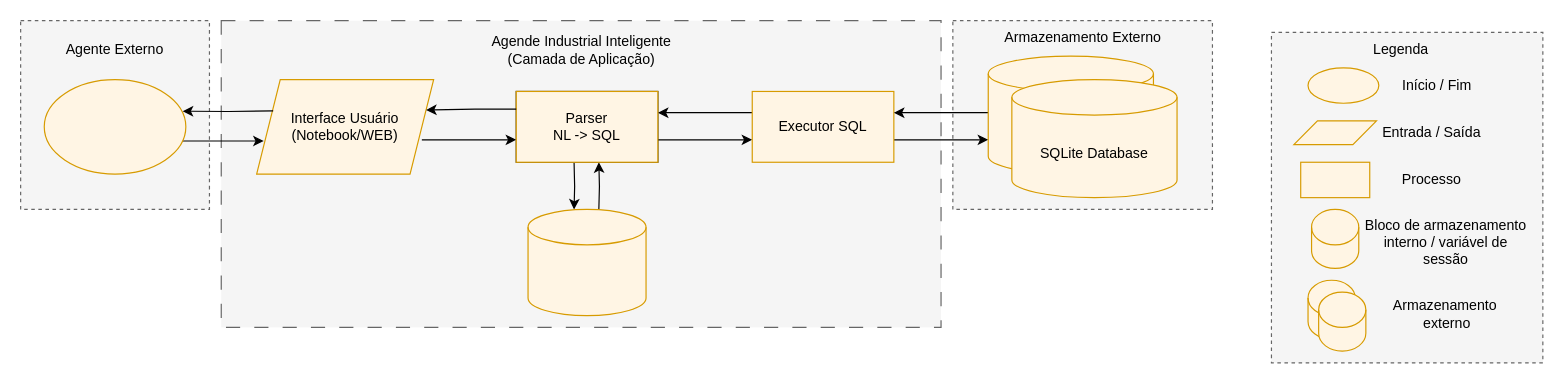
The diagram is 1563 pixels wide and 383 high, and some of its shapes have lost their labels. The shapes that lost their labels are listed below. From the top down, each one's box as (x1, y1, x2, y2) in pixels, then its label:
(43, 78, 186, 174): Usuário
(527, 208, 646, 316): Memória de contexto (sessão)
